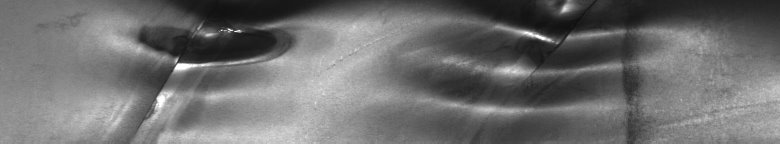ke: (420, 4, 673, 136)
